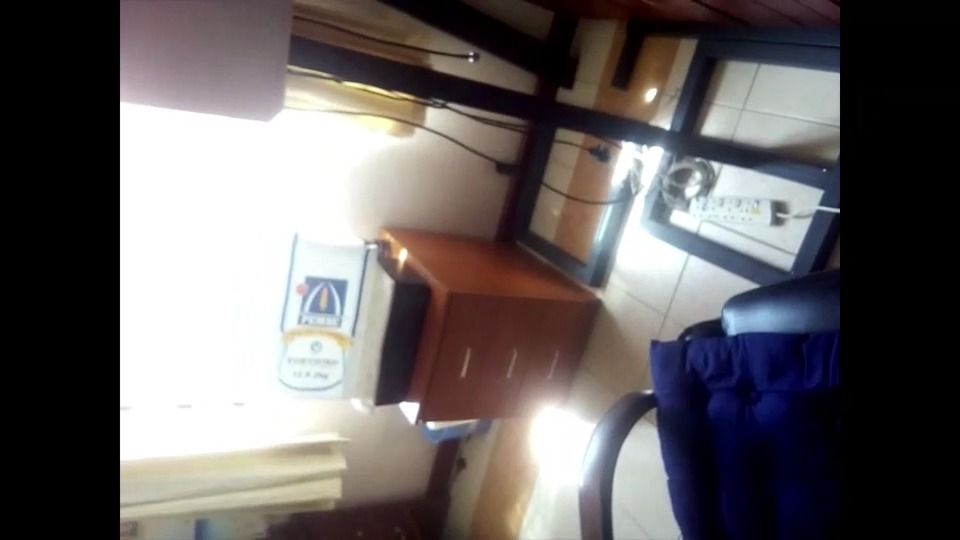wheat_flour_blue_label: (270, 237, 377, 401)
